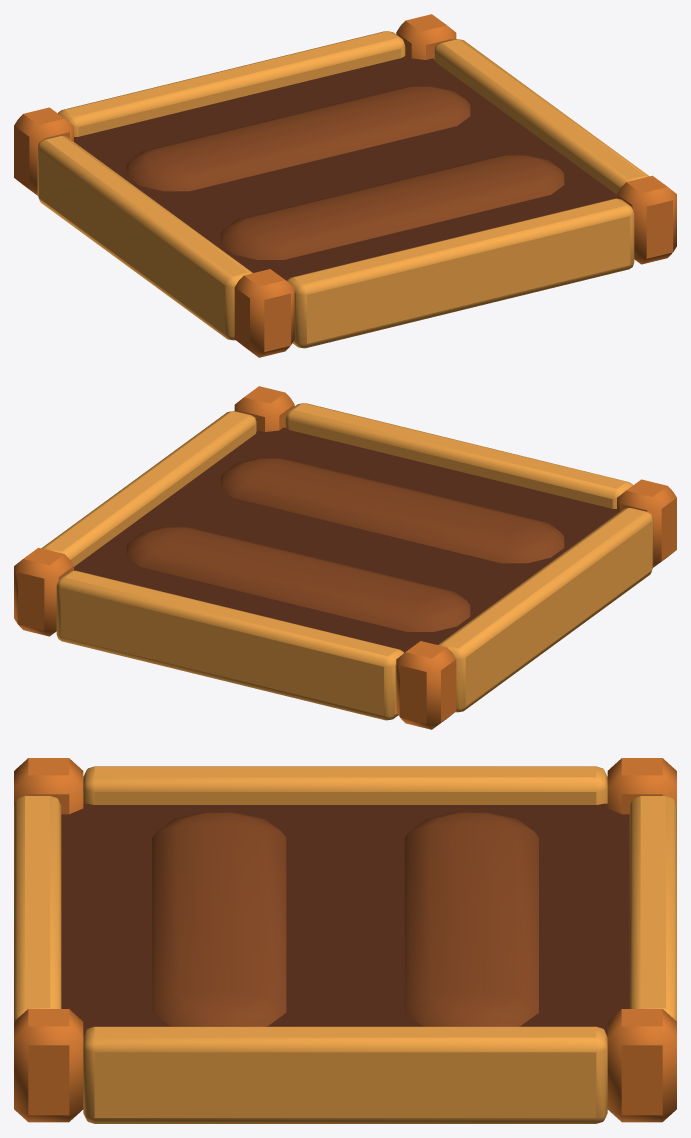
Rendered from garden-bed.fbx.
3 views of the same model, one above another, from view 1: azimuth 30°, elevation 25°; view 2: azimuth 150°, elevation 25°; view 3: azimuth 270°, elevation 25° (orthographic). The views are drawn at different scales.
Parts seen in each view (by area): view 1: garden-bed; view 2: garden-bed; view 3: garden-bed.
Boxes of the visible parts, x1,y1,x2,y2 form: garden-bed: [14, 14, 676, 357]; garden-bed: [14, 386, 676, 729]; garden-bed: [14, 758, 676, 1123].
Bounding box in the file's own units: 210 × 33.5 × 210.
